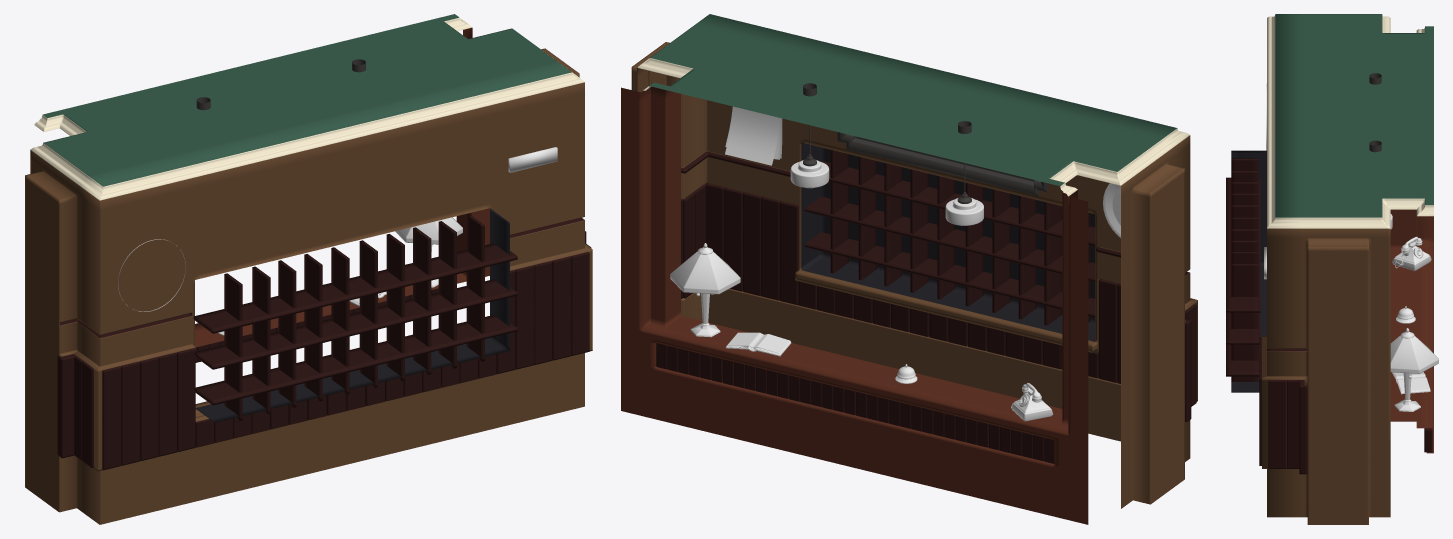
Rendered from front_desk_mk1.fbx.
3 renders of one model, left to right at view 1: azimuth 30°, elevation 25°; view 2: azimuth 150°, elevation 25°; view 3: azimuth 270°, elevation 25°, orthographic. The views are drawn at different scales.
Visible parts, largest first — view 1: polySurface5, polySurface1; view 2: polySurface5, polySurface1, polySurface4, polySurface3; view 3: polySurface5, polySurface1.
Part boxes in pixels (x1,y1,x2,y2): polySurface5: [25, 17, 592, 524]; polySurface1: [43, 14, 571, 186]; polySurface5: [621, 42, 1197, 524]; polySurface1: [649, 14, 1177, 186]; polySurface4: [790, 160, 829, 188]; polySurface3: [945, 198, 983, 225]; polySurface5: [1226, 15, 1438, 524]; polySurface1: [1275, 14, 1433, 217].
Bounding box in the file's own units: 526 × 326 × 208.
